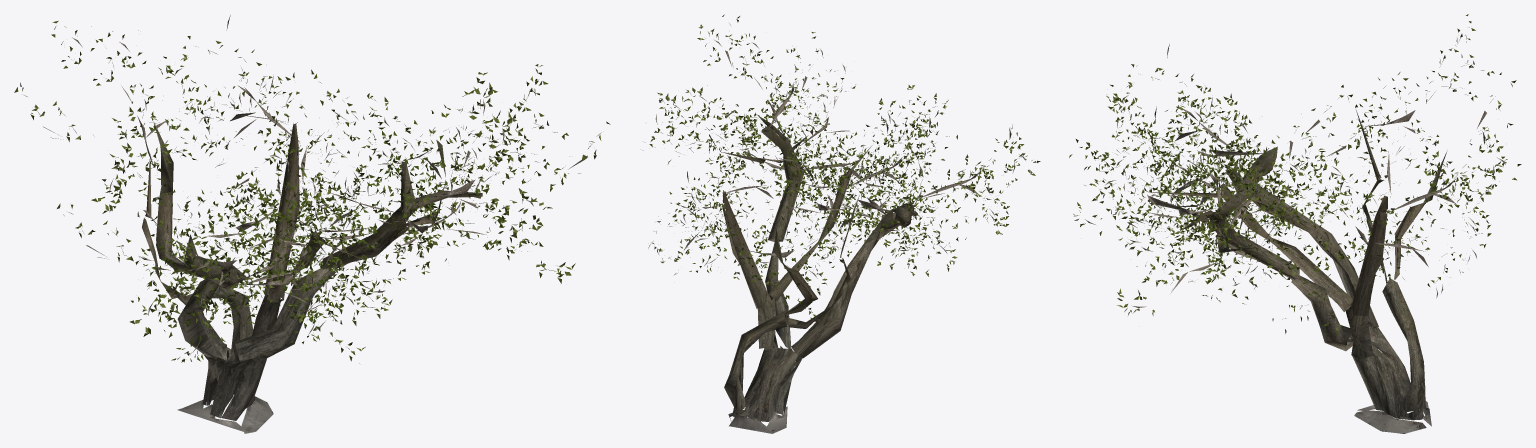
The model's file is island_tree_02_lod1.glb.
The picture shows the model from 3 angles, left to right: view 1: azimuth 30°, elevation 25°; view 2: azimuth 150°, elevation 25°; view 3: azimuth 270°, elevation 25°; orthographic projection. The views are drawn at different scales.
Parts seen in each view (by area): view 1: island_tree_02_LOD0; view 2: island_tree_02_LOD0; view 3: island_tree_02_LOD0.
Boxes of the visible parts, x1,y1,x2,y2 form: island_tree_02_LOD0: (14,15,610,433); island_tree_02_LOD0: (643,14,1040,433); island_tree_02_LOD0: (1069,14,1521,433).
Size of the model in its own units: 3.79 by 3.41 by 4.03.
Materials: 3 (3 with a texture image).
